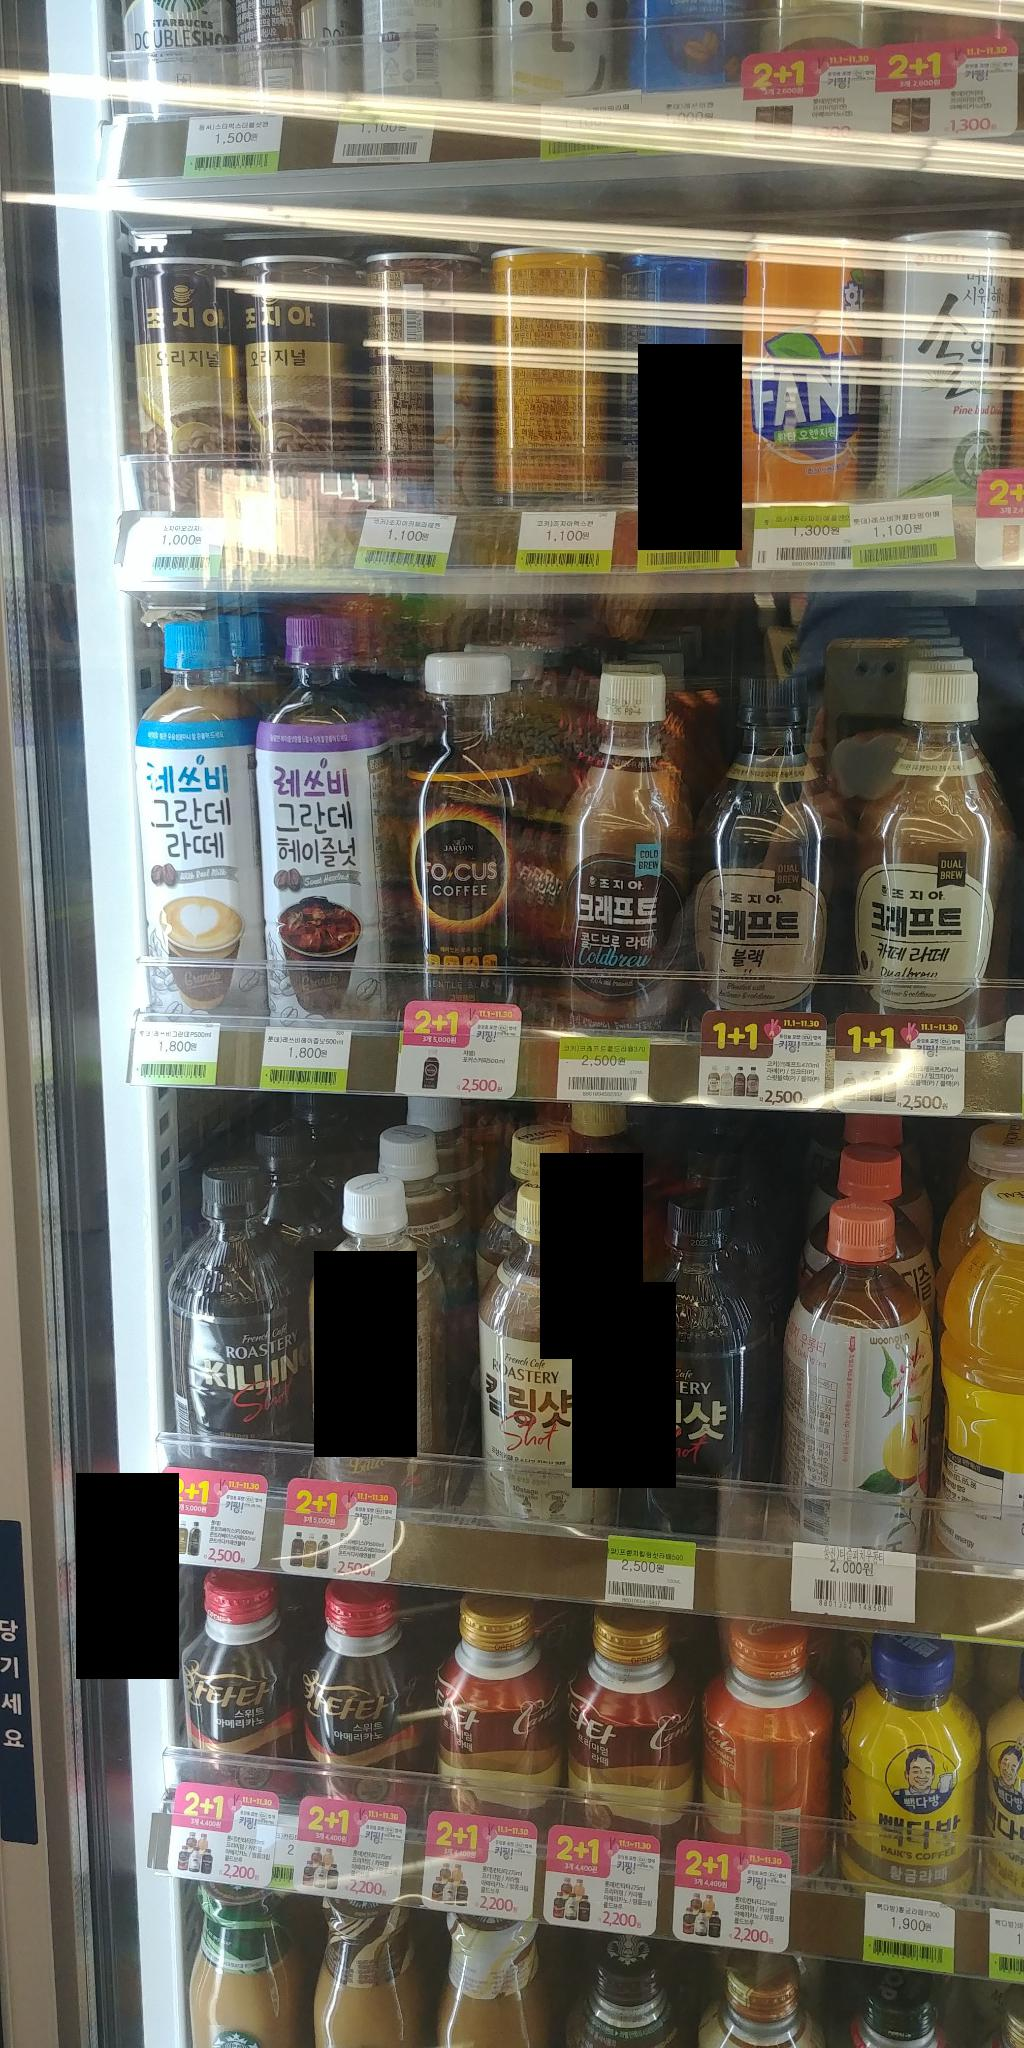georgiacraft_black: (692, 679, 856, 1019)
letsbe_grande_hazelnut: (249, 600, 413, 1017)
